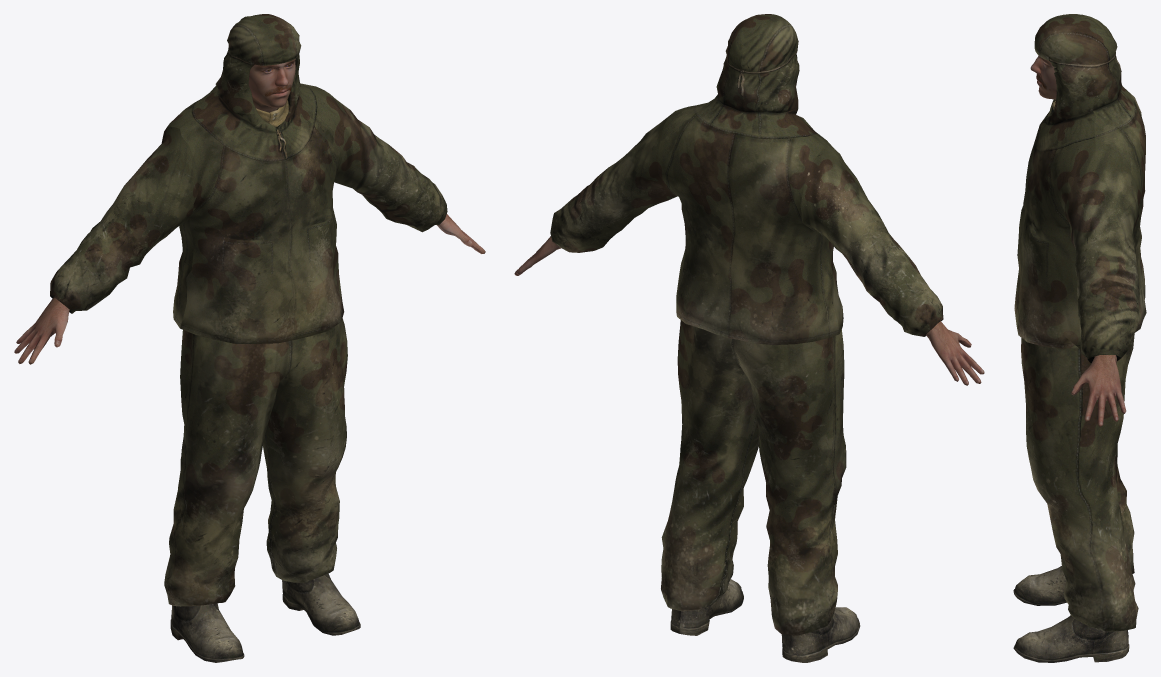
File: sniper.fbx
The picture shows the model from 3 angles, left to right: view 1: azimuth 30°, elevation 25°; view 2: azimuth 150°, elevation 25°; view 3: azimuth 270°, elevation 25°; orthographic projection.
Parts seen in each view (by area): view 1: lib_rus_sniper, lib_rus_sniper.001; view 2: lib_rus_sniper, lib_rus_sniper.001; view 3: lib_rus_sniper, lib_rus_sniper.001.
Part boxes in pixels (left/top/right/bottom): lib_rus_sniper: left=50, top=14, right=447, bottom=662; lib_rus_sniper.001: left=14, top=59, right=485, bottom=364; lib_rus_sniper: left=550, top=14, right=943, bottom=662; lib_rus_sniper.001: left=514, top=236, right=984, bottom=385; lib_rus_sniper: left=1013, top=14, right=1146, bottom=662; lib_rus_sniper.001: left=1030, top=55, right=1126, bottom=427.
Size of the model in its own units: 14503 by 18245 by 3623.
